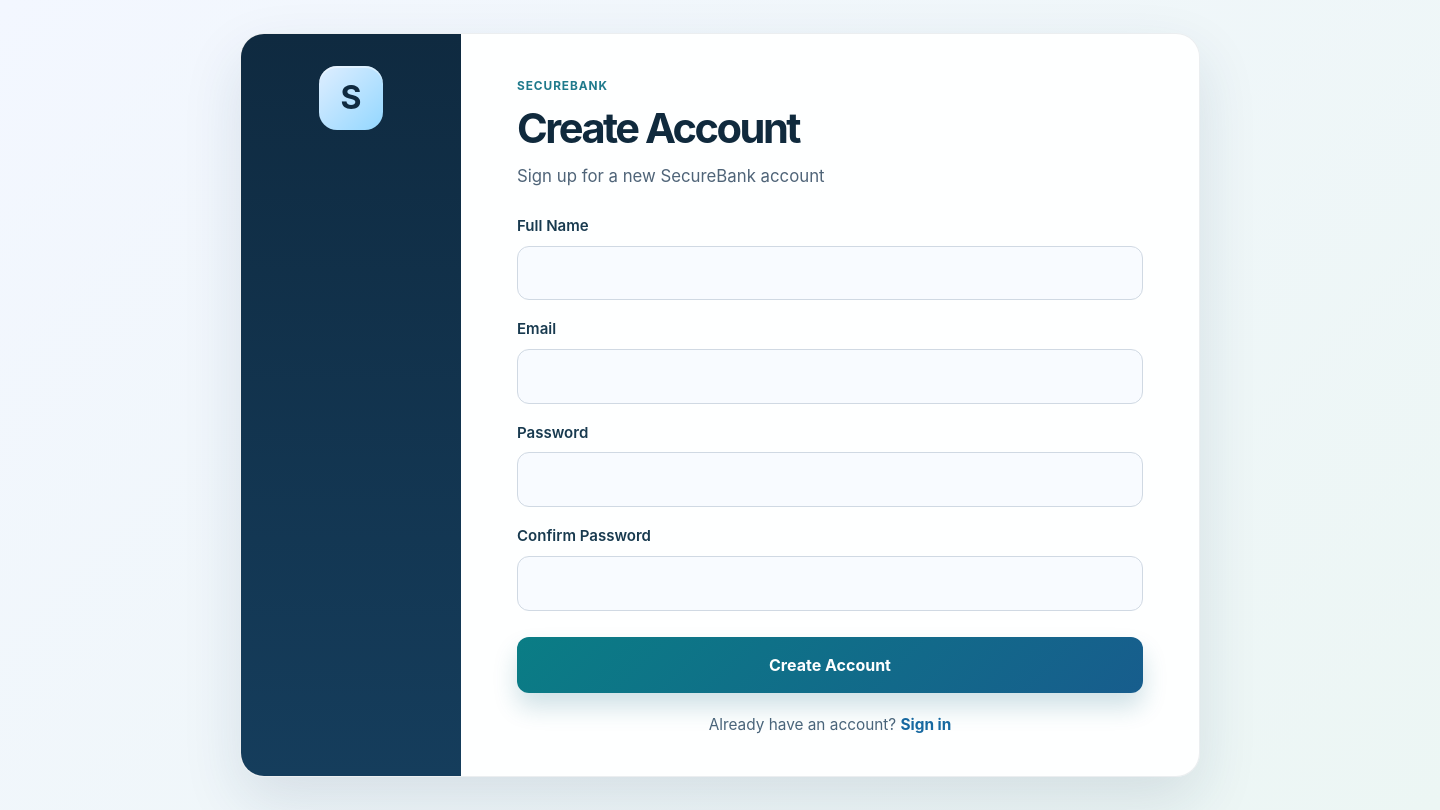
Test: Signup screen › shows a mismatch error when the passwords differ
Type "Jane Doe" into the field labelled "Full Name" at (830, 273), box [517, 246, 1143, 300]
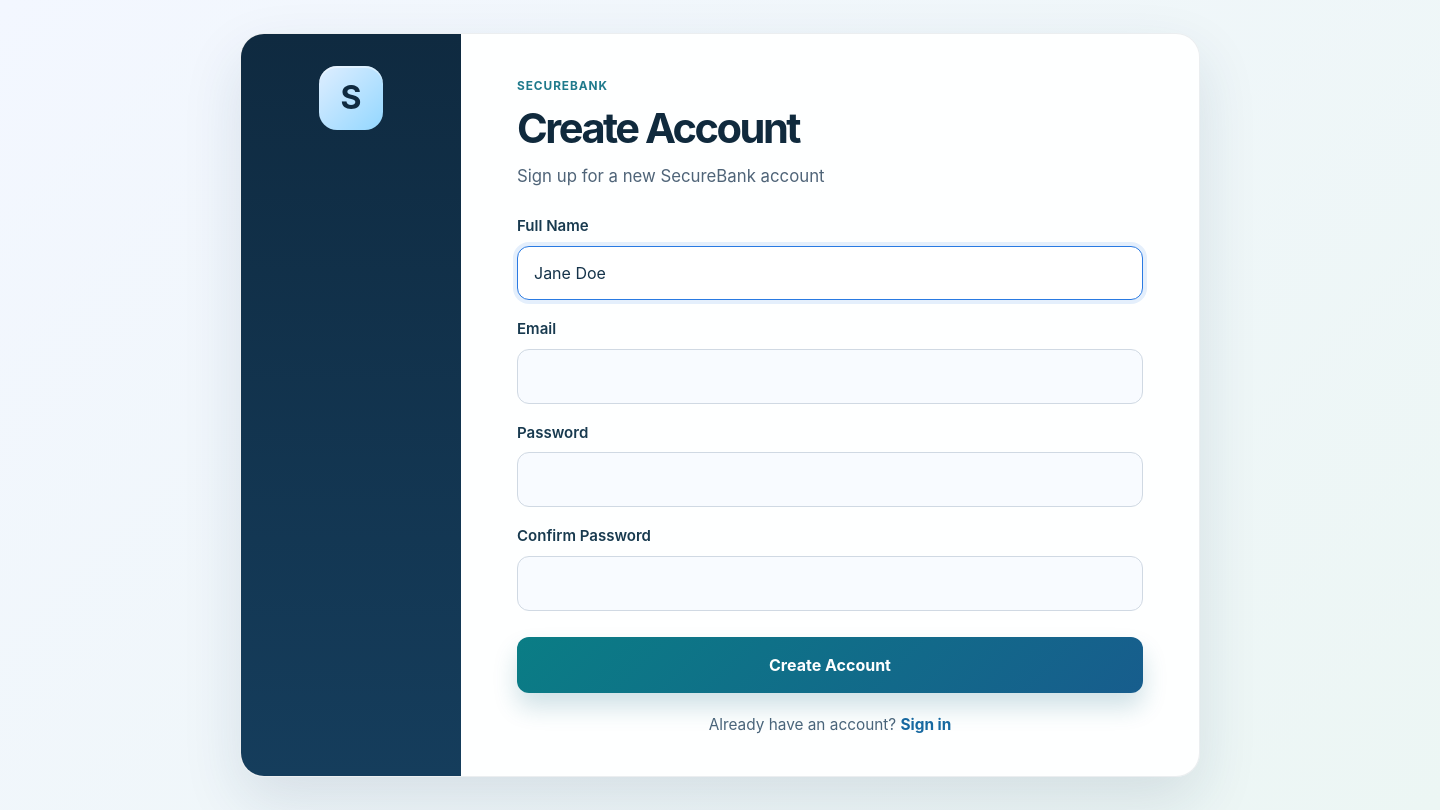
Type "jane@example.com" into the field labelled "Email" at (830, 376), box [517, 349, 1143, 404]
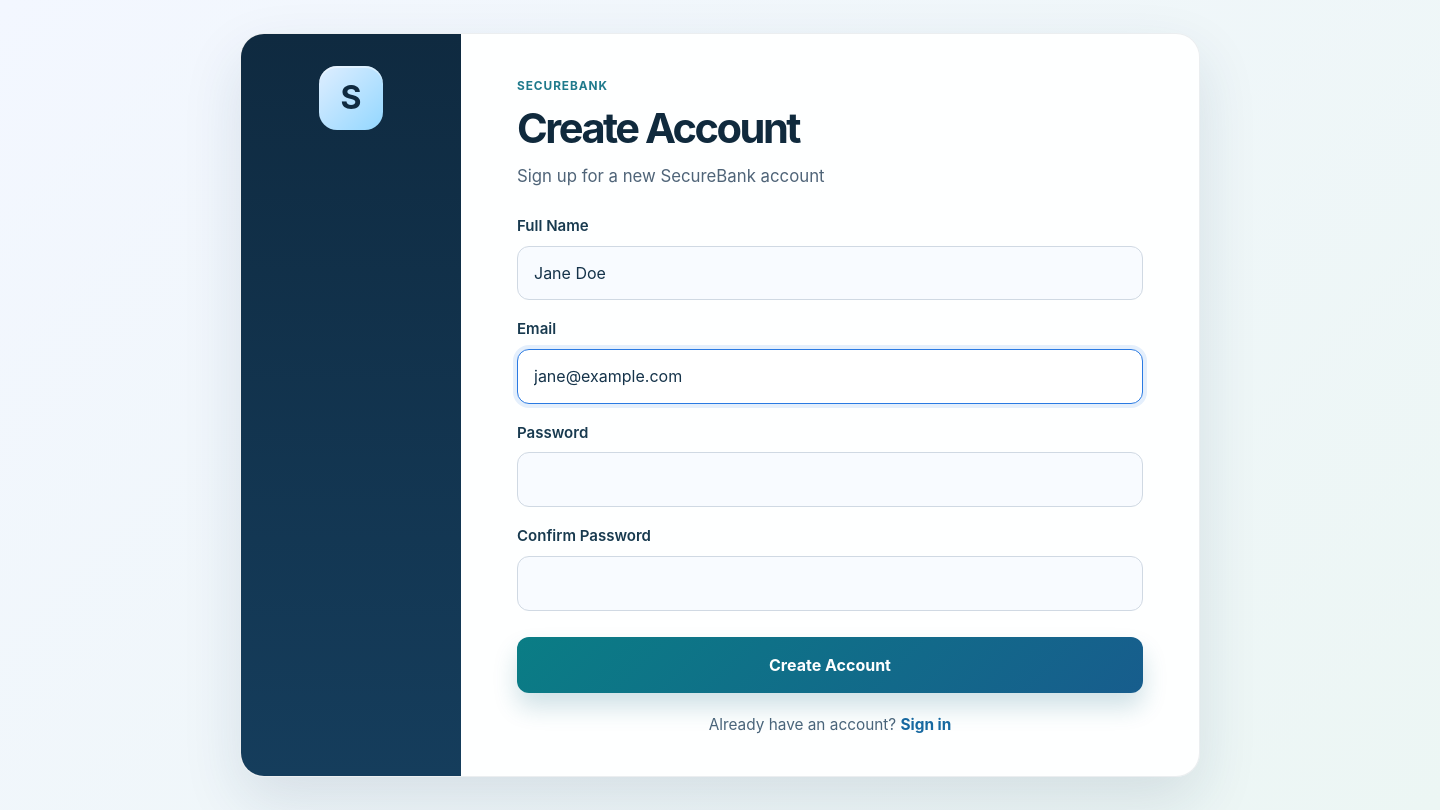
Type "SecurePass!123" into the password field labelled "Password" at (830, 480), box [517, 452, 1143, 507]
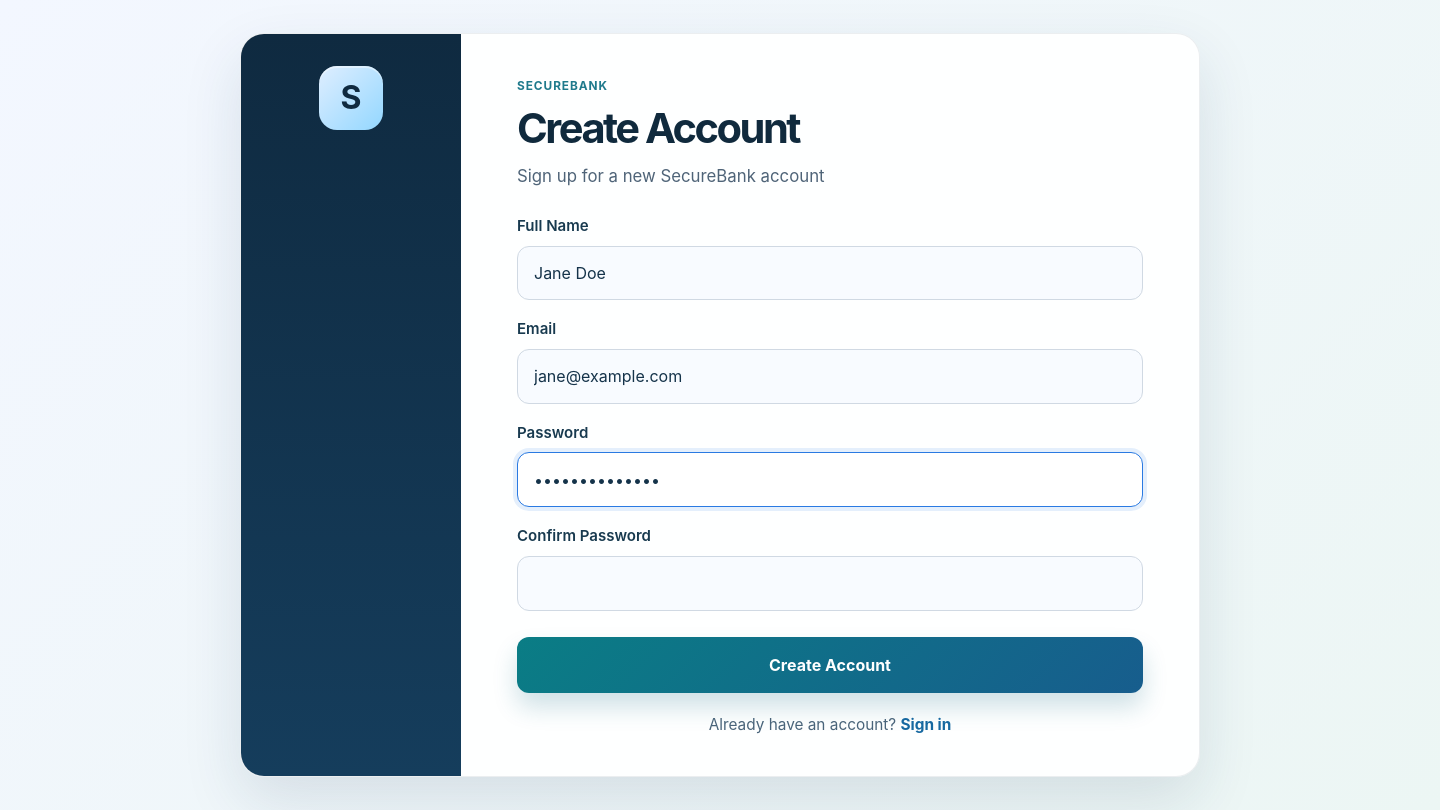
Type "DifferentPass!123" into the password field labelled "Confirm Password" at (830, 583), box [517, 556, 1143, 610]
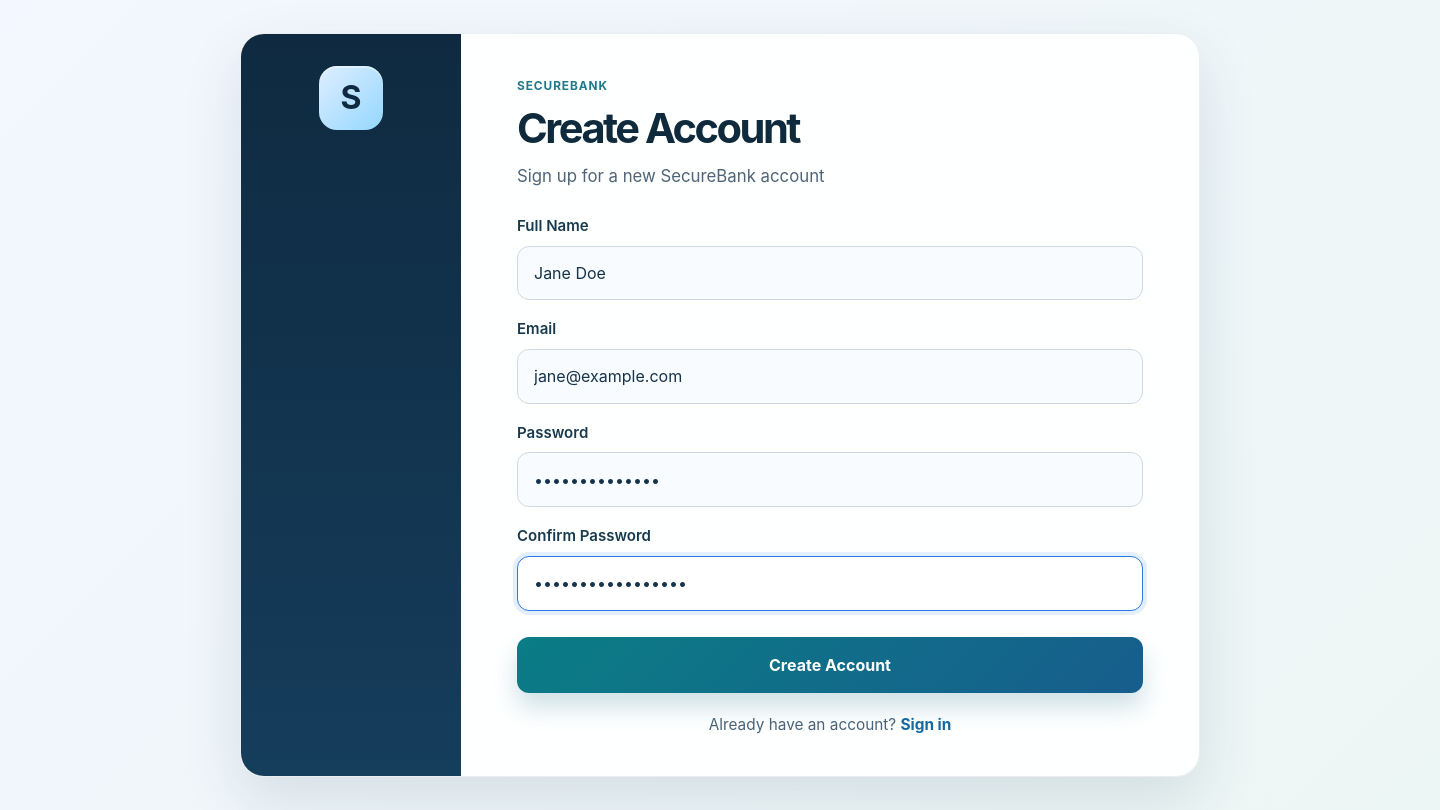
Click the button "Create Account" at (830, 664), box [517, 636, 1143, 692]
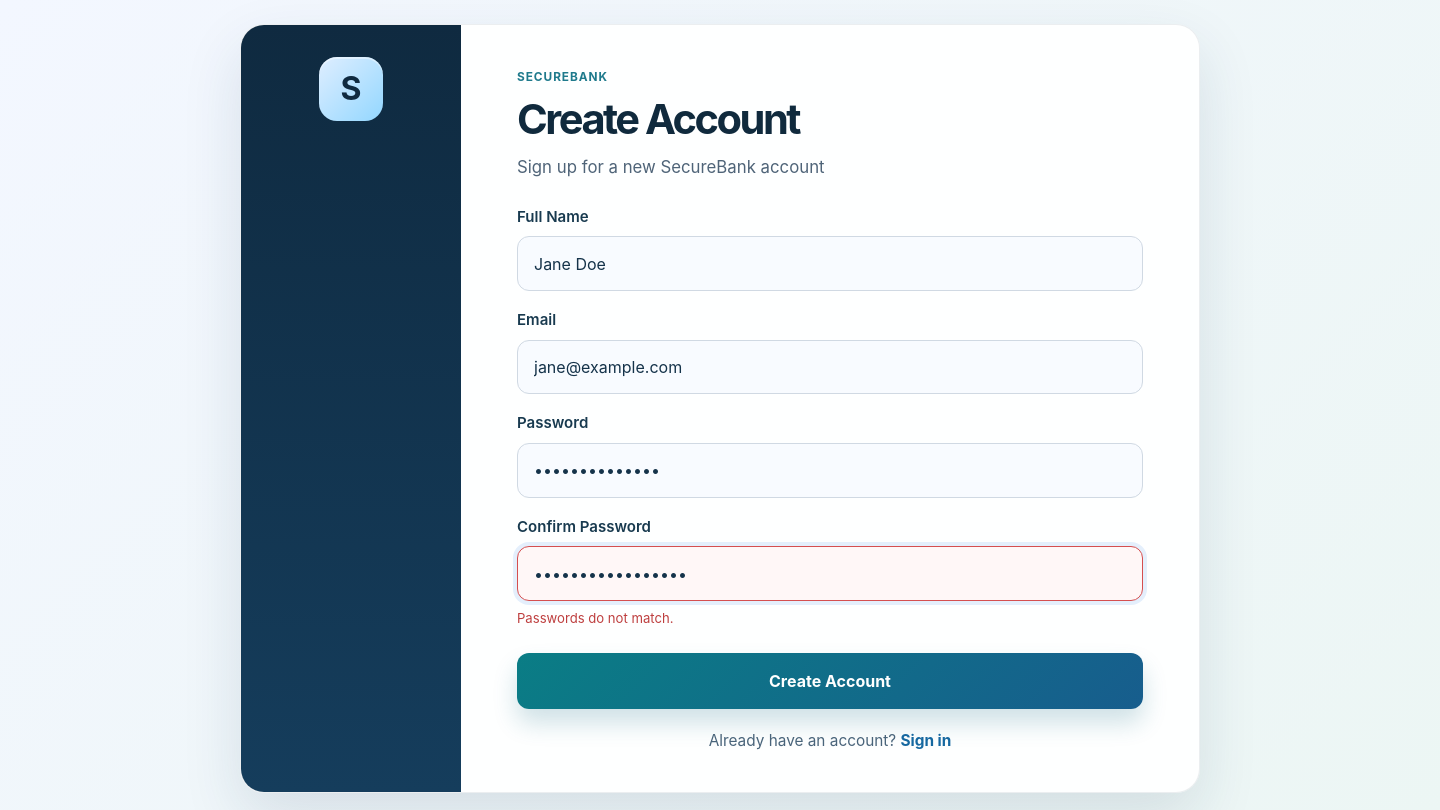
Expected: the text "Passwords do not match." is shown, [517, 610, 674, 626]
